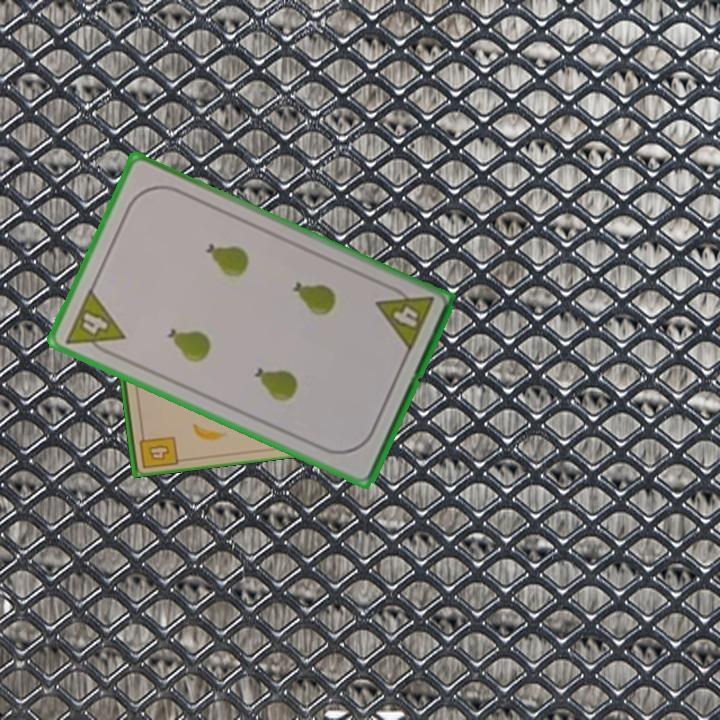4b: (135, 426, 180, 471)
4p: (61, 285, 128, 361), (372, 280, 436, 355)
